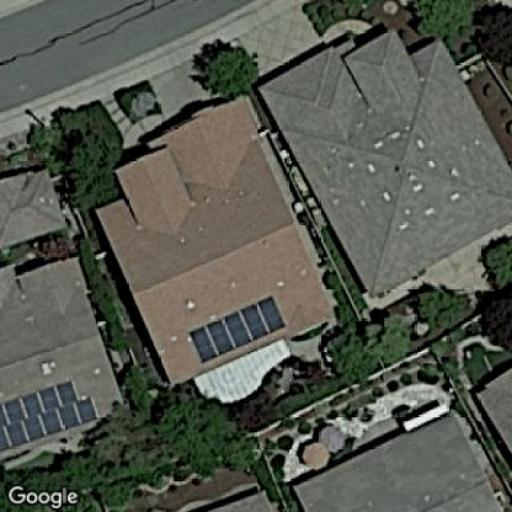solar-panel: (0, 379, 97, 453), (187, 294, 287, 362)
